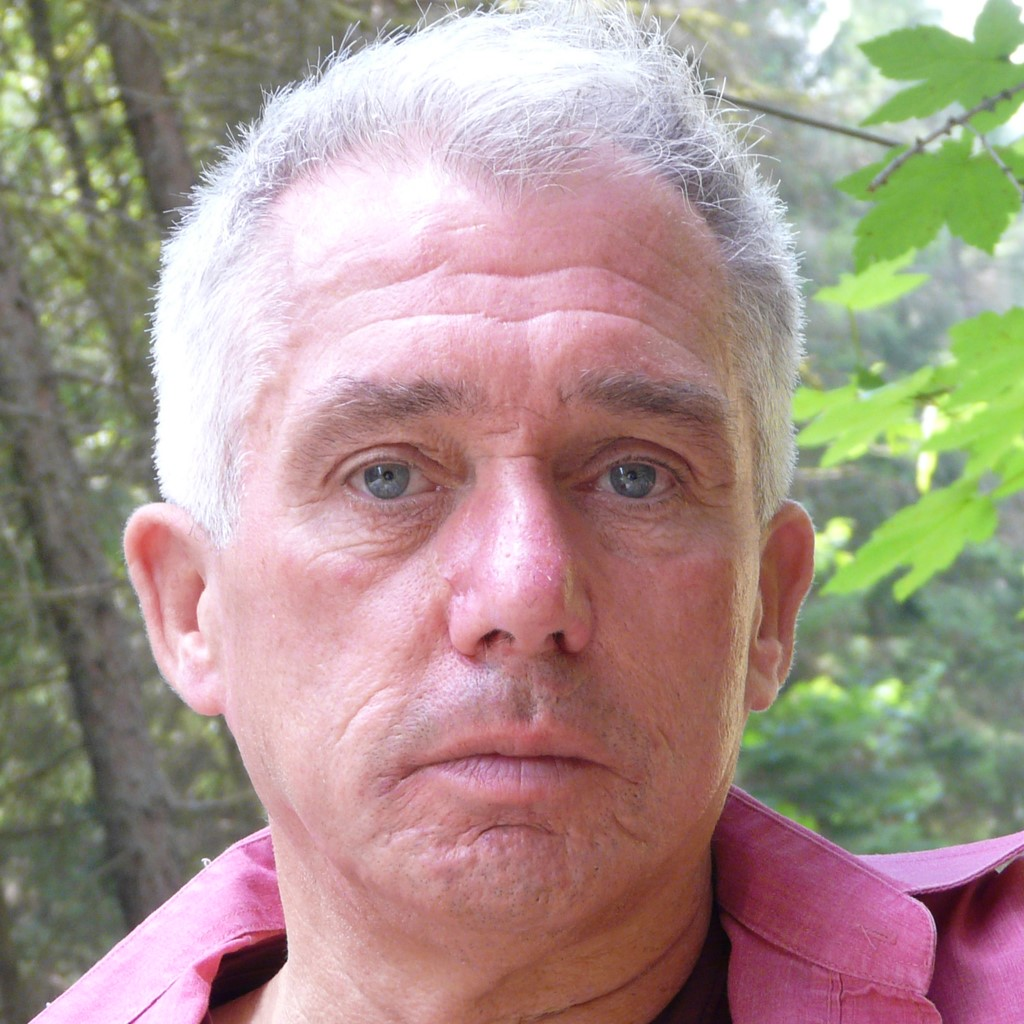sin_mascara: (208, 146, 774, 943)
